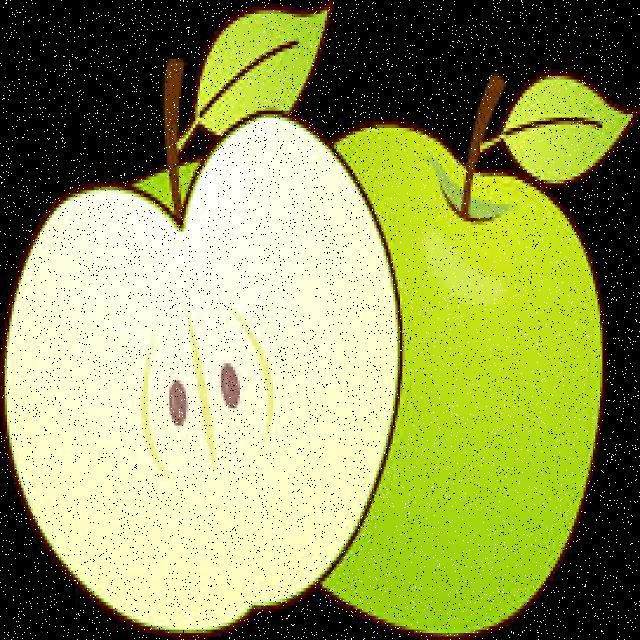Apple: (2, 114, 406, 637), (320, 155, 604, 640)
